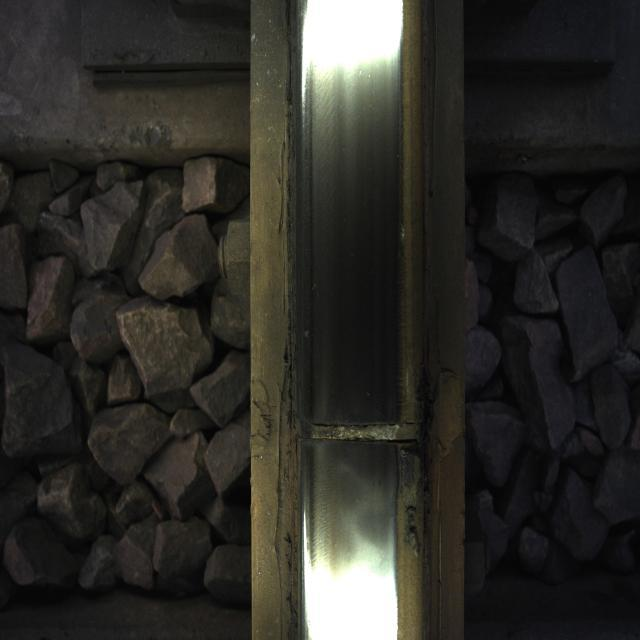spalling: (278, 370, 434, 485)
